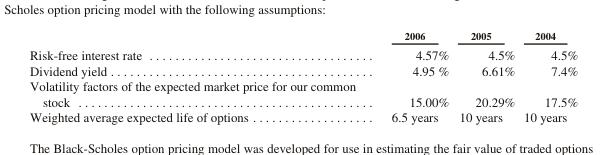table: (28, 28, 577, 124)
table column: (28, 28, 372, 124), (372, 28, 453, 124), (453, 28, 518, 124), (518, 28, 577, 124)
table column header: (28, 28, 577, 44)
table row: (28, 78, 577, 109), (28, 44, 577, 62), (28, 28, 577, 44), (28, 62, 577, 78), (28, 109, 577, 124)
